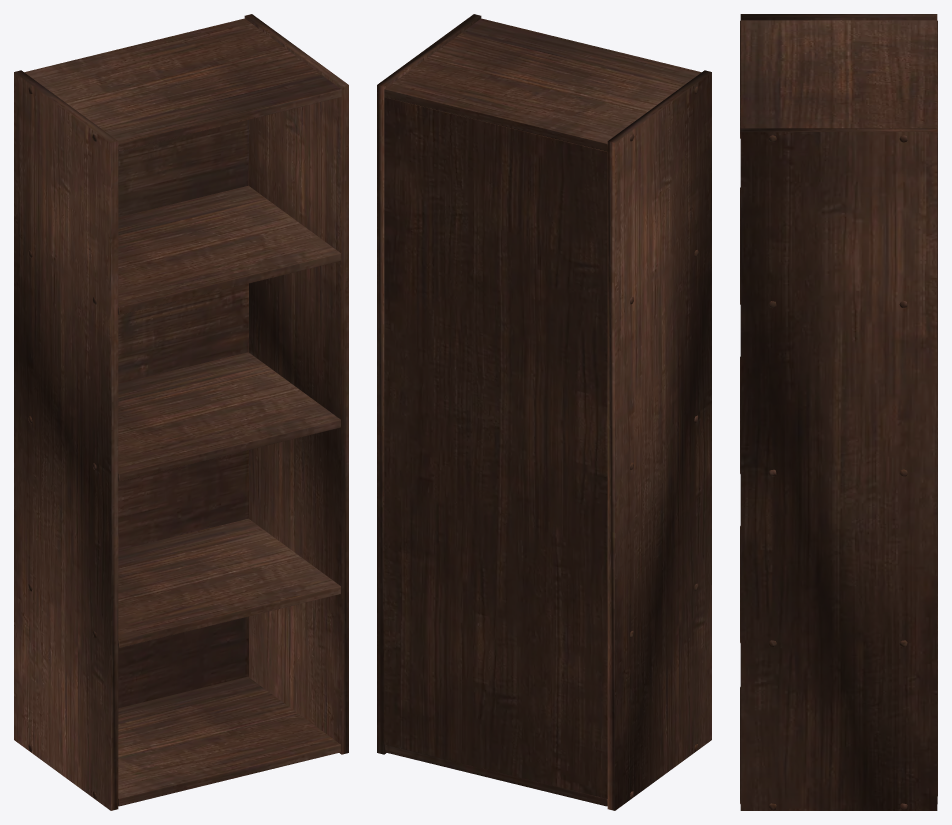
The model's file is abo-B07TVYR62P.glb.
The picture shows the model from 3 angles, left to right: view 1: azimuth 30°, elevation 25°; view 2: azimuth 150°, elevation 25°; view 3: azimuth 270°, elevation 25°; orthographic projection.
Parts seen in each view (by area): view 1: RootNode; view 2: RootNode; view 3: RootNode.
Part boxes in pixels (x1,y1,x2,y2): RootNode: (14, 14, 348, 810); RootNode: (377, 14, 711, 810); RootNode: (740, 14, 937, 810).
Size of the model in its own units: 0.4143 by 1.1 by 0.2899.
Materials: 1 (1 with a texture image).
